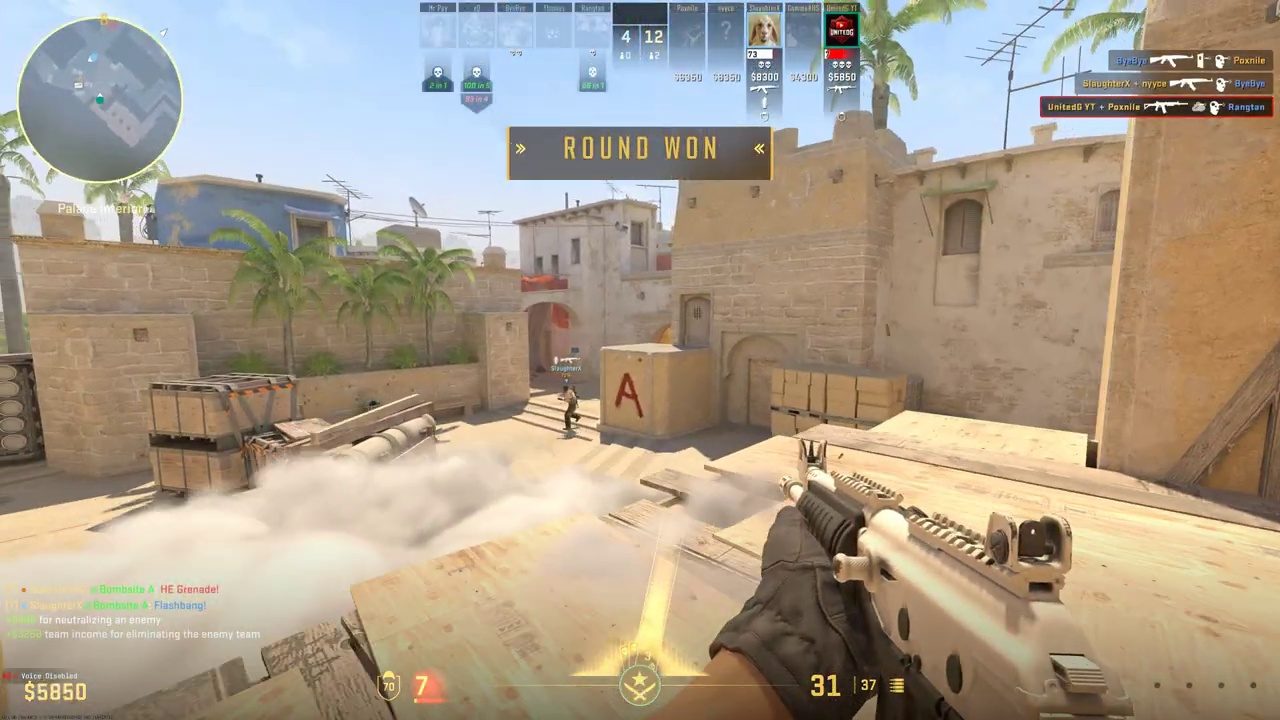Terrorist: (561, 386, 579, 430)
